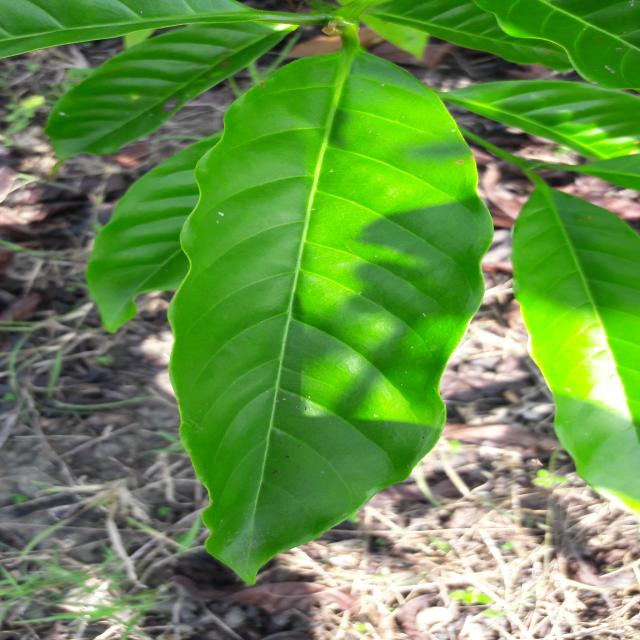Sanas: (168, 45, 493, 590)
